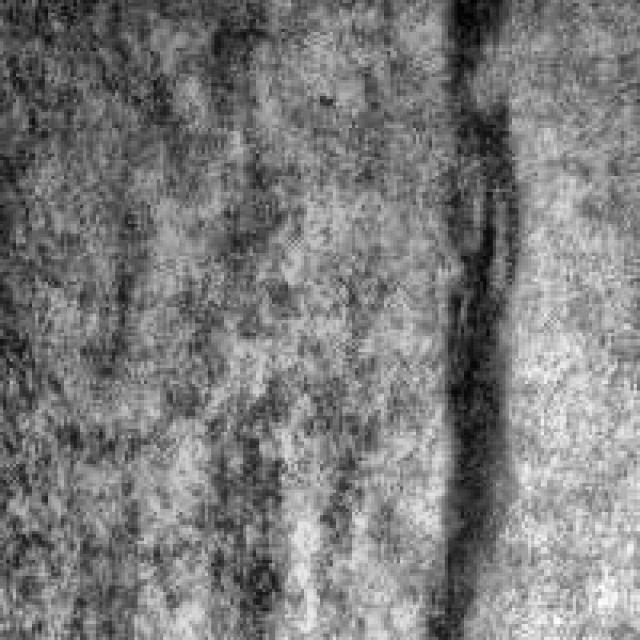Patches: (419, 90, 518, 620)
